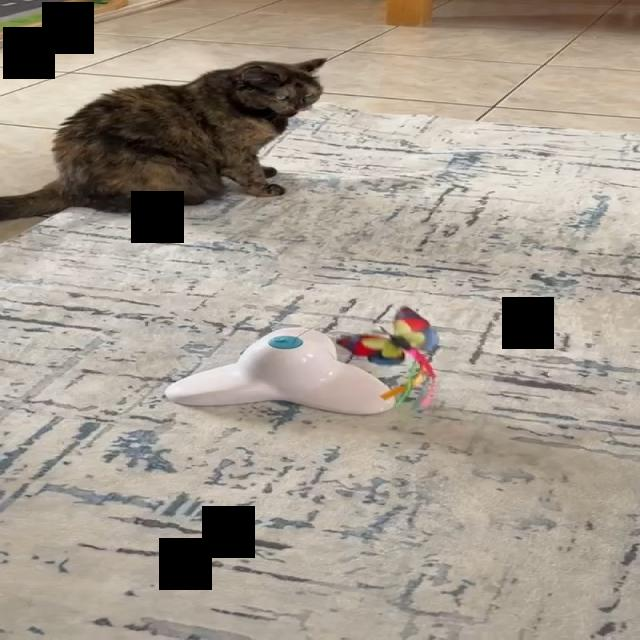authorized: (0, 57, 327, 221)
